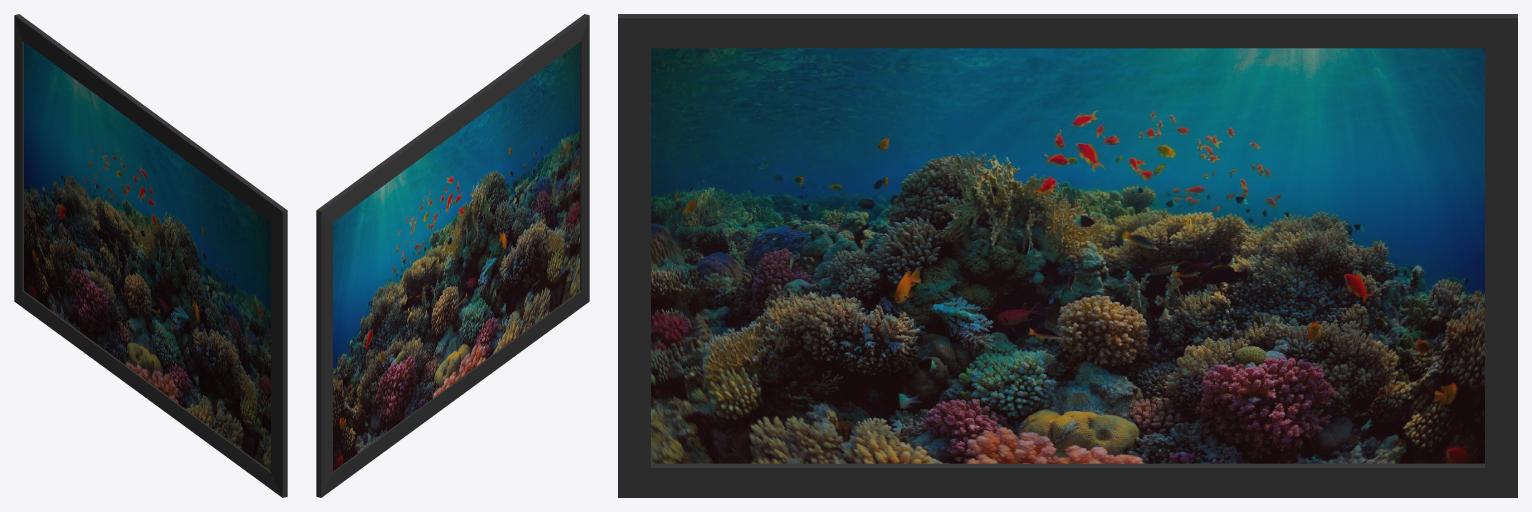
The model's file is Painting_CoralReef1.fbx.
The picture shows the model from 3 angles, left to right: view 1: azimuth 30°, elevation 25°; view 2: azimuth 150°, elevation 25°; view 3: azimuth 270°, elevation 25°; orthographic projection. The views are drawn at different scales.
Visible parts, largest first — view 1: coral_reef1, PaintingFrame1; view 2: coral_reef1, PaintingFrame1; view 3: coral_reef1, PaintingFrame1.
Boxes of the visible parts, left/top/right/bottom form: coral_reef1: left=24, top=42, right=270, bottom=471; PaintingFrame1: left=14, top=14, right=287, bottom=497; coral_reef1: left=333, top=42, right=579, bottom=471; PaintingFrame1: left=316, top=14, right=589, bottom=497; coral_reef1: left=651, top=48, right=1484, bottom=463; PaintingFrame1: left=618, top=14, right=1517, bottom=497.
Bounding box in the file's own units: 4 × 160 × 272.
